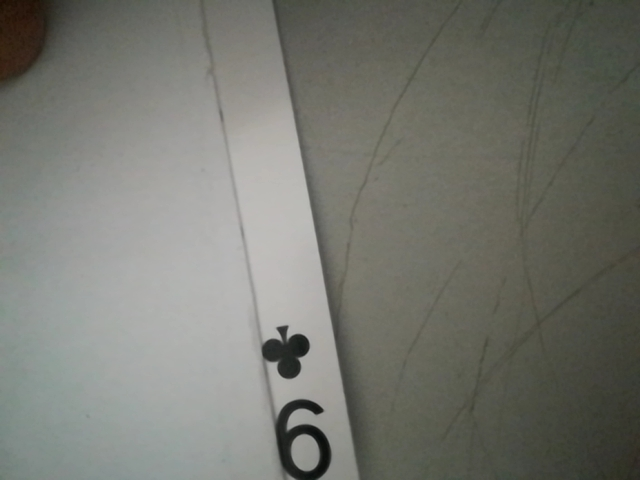mh 9: (251, 314, 356, 480)
